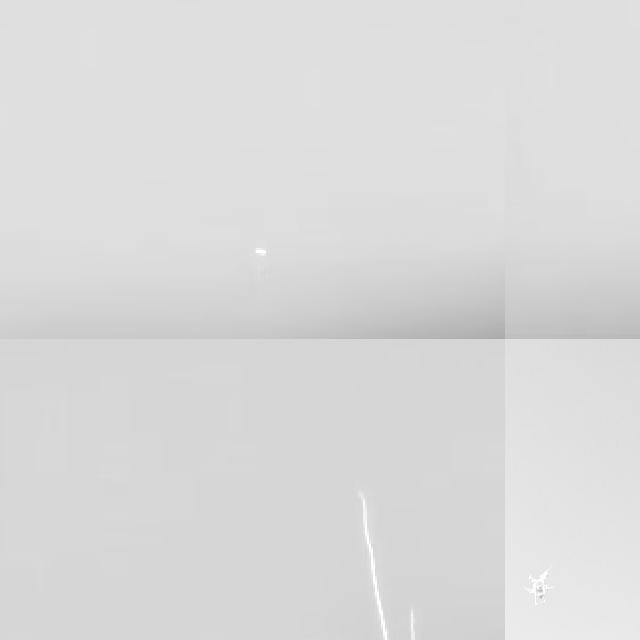1: (240, 236, 282, 280)
drone: (524, 565, 554, 615)
